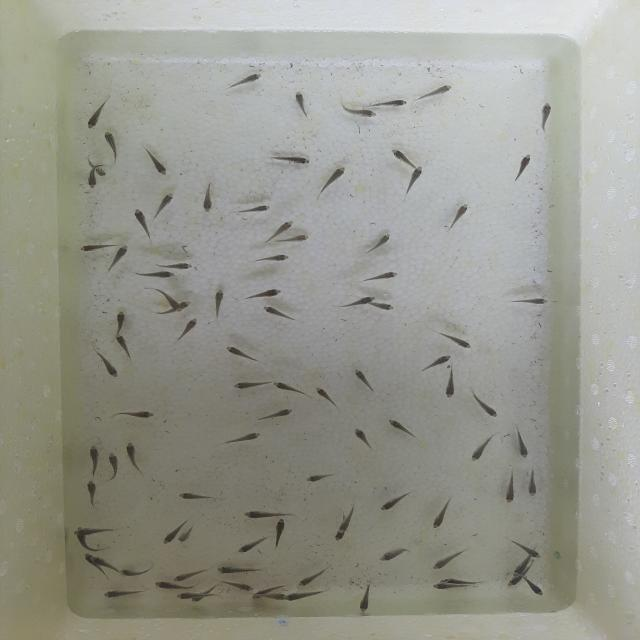fingerling: (314, 161, 352, 204), (423, 494, 462, 534), (468, 386, 503, 420), (509, 148, 537, 187), (221, 427, 267, 450), (198, 180, 226, 217), (105, 405, 159, 424), (467, 428, 495, 464), (289, 86, 316, 123), (140, 144, 169, 178), (425, 547, 464, 572), (224, 342, 266, 365), (122, 438, 145, 480), (352, 365, 381, 398), (382, 416, 421, 440), (445, 202, 474, 234), (505, 291, 553, 310), (224, 70, 265, 92), (358, 231, 397, 254), (85, 94, 108, 133), (376, 491, 415, 514), (415, 82, 455, 104), (253, 405, 297, 425), (100, 130, 127, 162), (348, 424, 377, 453), (152, 191, 180, 221), (434, 328, 474, 349), (273, 380, 314, 400), (373, 544, 412, 565), (234, 533, 268, 557), (349, 583, 375, 614), (269, 150, 313, 168), (269, 518, 291, 554), (294, 566, 330, 588), (95, 352, 122, 381), (536, 100, 556, 138), (246, 252, 292, 268), (236, 288, 282, 304), (314, 386, 343, 411), (261, 305, 299, 324), (82, 478, 103, 512), (510, 424, 530, 459), (171, 489, 220, 503), (85, 439, 103, 476), (132, 205, 149, 244), (101, 586, 148, 600), (115, 332, 136, 363), (300, 469, 342, 484), (104, 448, 121, 485), (239, 508, 296, 519), (178, 316, 202, 342), (385, 146, 413, 168), (214, 564, 265, 576), (210, 286, 227, 320), (336, 507, 358, 533), (500, 471, 517, 504), (235, 204, 277, 217), (112, 243, 131, 271), (362, 269, 402, 282), (368, 98, 411, 110), (172, 568, 206, 583), (73, 243, 112, 256), (152, 580, 198, 591), (218, 579, 255, 592), (414, 354, 454, 366), (440, 370, 456, 400), (524, 468, 540, 498), (232, 378, 271, 390), (117, 566, 156, 578), (134, 270, 176, 280), (346, 108, 378, 121), (114, 306, 130, 332), (154, 261, 198, 270), (284, 590, 320, 601), (71, 528, 119, 536), (430, 582, 473, 590), (161, 526, 177, 547), (272, 218, 295, 232), (276, 236, 314, 244), (527, 581, 544, 597), (374, 300, 396, 312), (84, 174, 98, 192), (413, 163, 425, 181), (354, 295, 376, 304), (172, 591, 194, 600), (91, 554, 106, 566), (177, 532, 190, 544), (504, 578, 519, 588), (526, 548, 541, 558), (170, 303, 184, 312), (96, 167, 107, 178), (183, 298, 193, 310), (333, 534, 346, 542)
